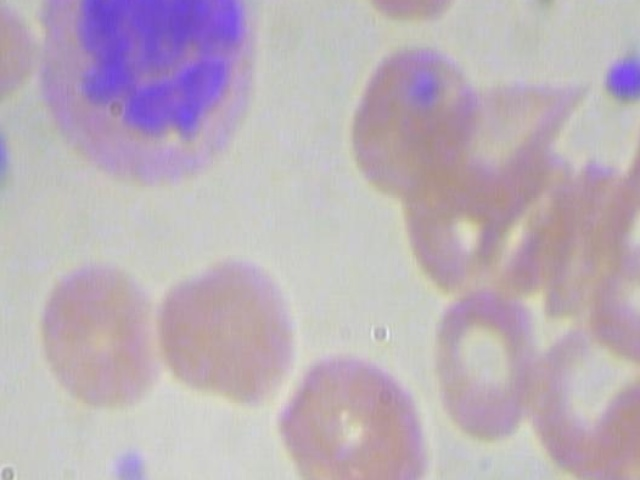Platelets: (602, 38, 640, 109), (104, 447, 154, 480), (0, 114, 15, 193)
RBC: (26, 251, 168, 418), (155, 251, 297, 418), (344, 37, 486, 204), (269, 343, 434, 480), (427, 279, 543, 442), (0, 0, 46, 117), (344, 0, 486, 35)
WBC: (31, 0, 277, 196)
